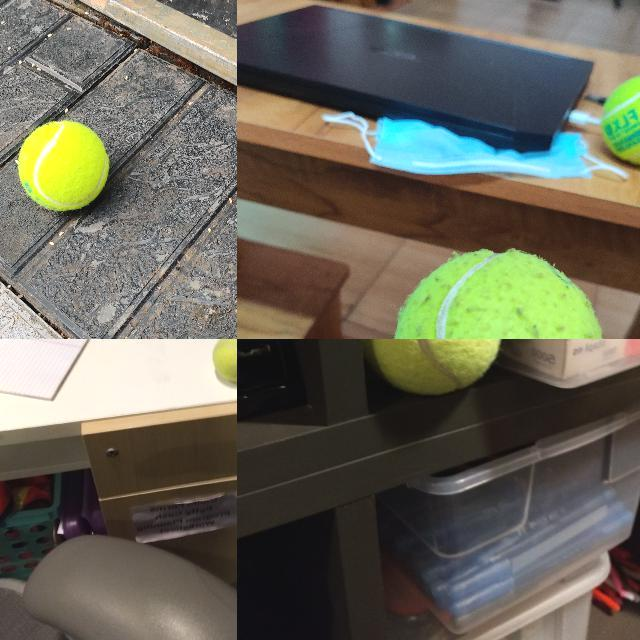Tennis Ball: (391, 250, 605, 338), (17, 120, 110, 213), (363, 339, 506, 396), (601, 74, 640, 164), (212, 339, 237, 382)
